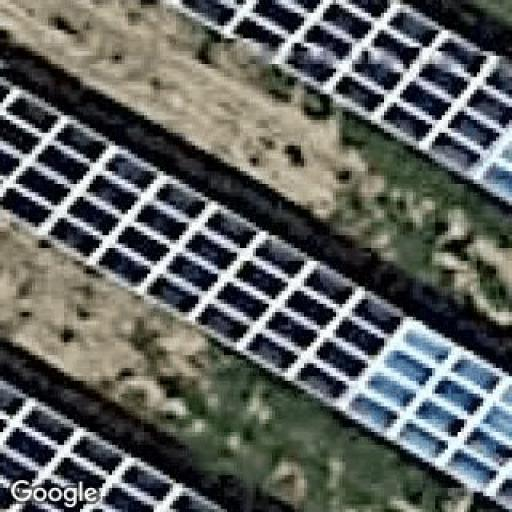solar-panel: (0, 77, 512, 512), (161, 0, 512, 203), (0, 390, 222, 511)
